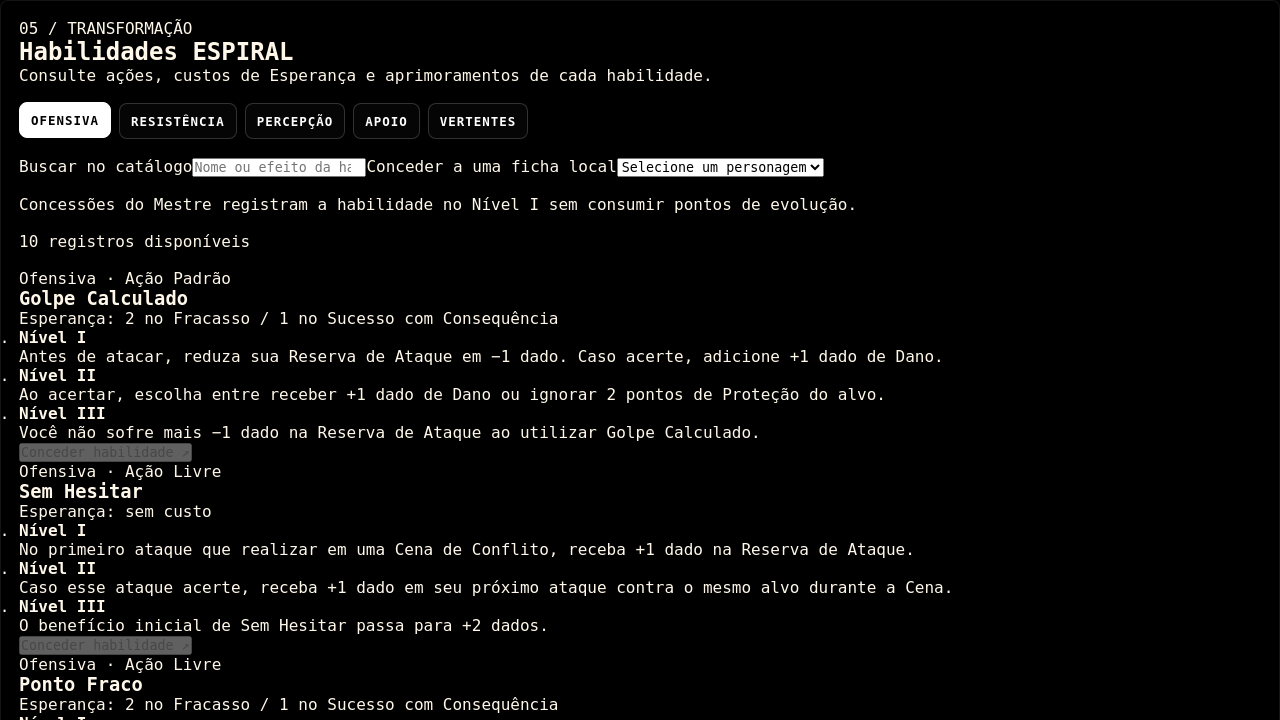
usa as habilidades da Transformação com custos e níveis e consulta vertentes
Expected: the heading "Golpe Calculado" is shown, 19,288 -> 188,309
Expected: the 1st text "Nível III" is shown, 19,404 -> 106,423
Click the button "Resistência" at point(178, 121), box 119,103 -> 237,139
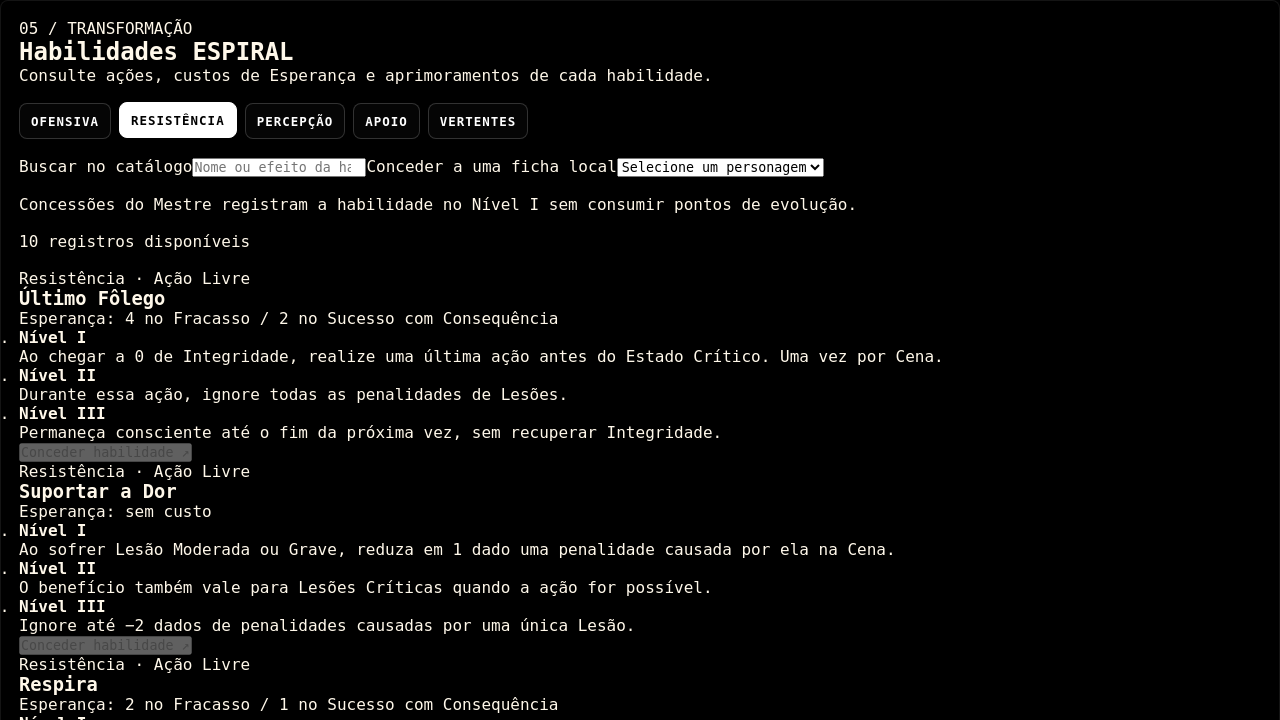
Result: the heading "Último Fôlego" is shown at 19,288 -> 165,309
Click the button "Vertentes" at point(478, 121), box 428,103 -> 528,139
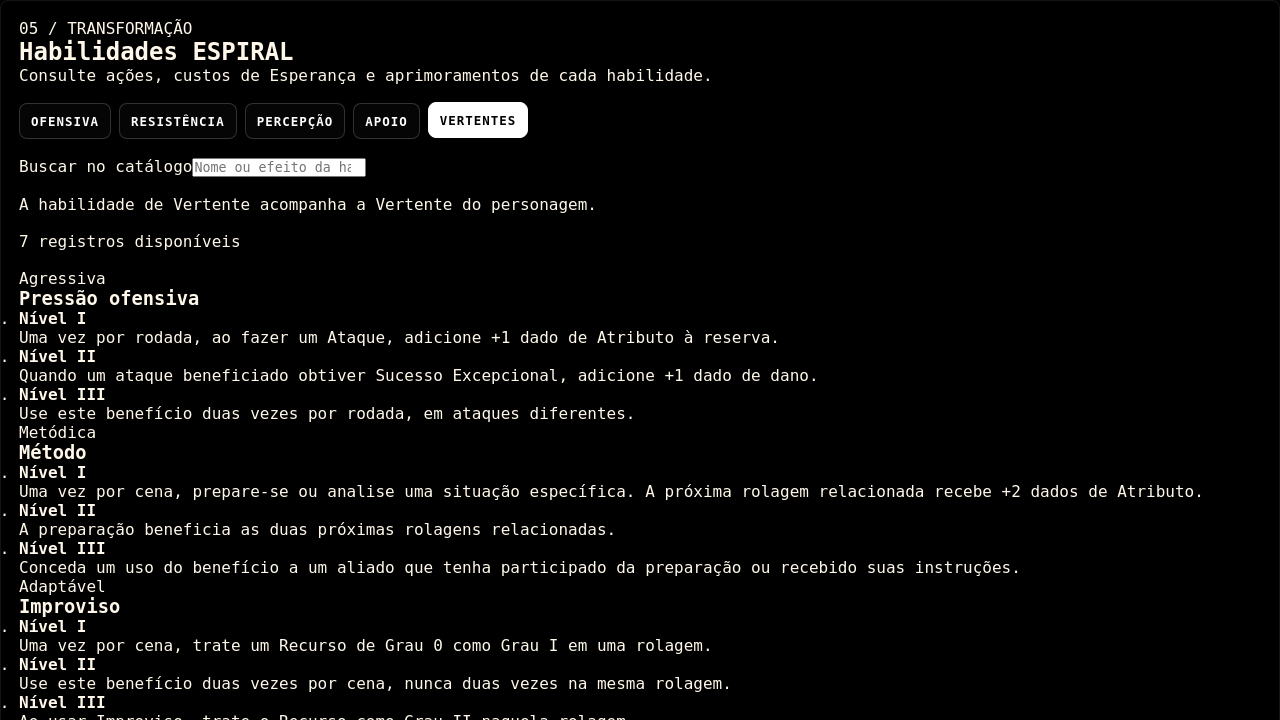
Result: the heading "Método" is shown at 19,442 -> 87,463
Result: the label labelled "Conceder a uma ficha local" is gone
